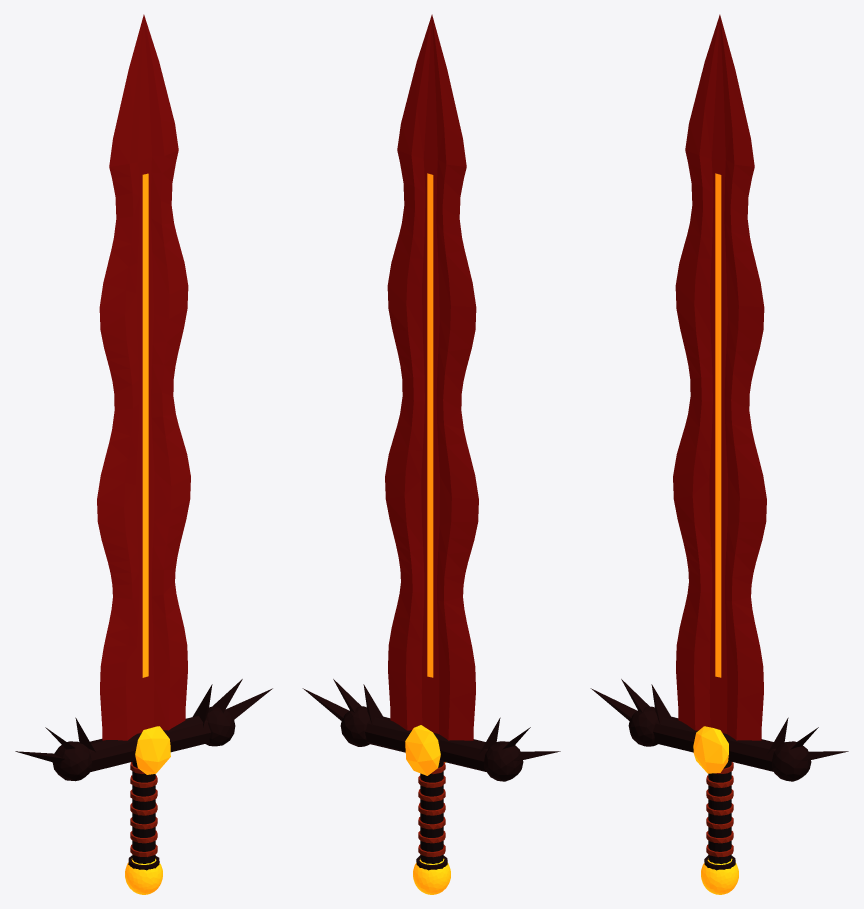
File: sword_4.glb
3 renders of one model, left to right at view 1: azimuth 30°, elevation 25°; view 2: azimuth 150°, elevation 25°; view 3: azimuth 330°, elevation 25°, orthographic.
Parts seen in each view (by area): view 1: part_01, part_03, part_04, part_15, part_13, part_05, part_23, part_06; view 2: part_01, part_02, part_04, part_15, part_14, part_05, part_23, part_06; view 3: part_01, part_03, part_04, part_15, part_13, part_06, part_23, part_05.
Part boxes in pixels (x1,y1,x2,y2): part_01: [97, 14, 190, 740]; part_03: [142, 173, 148, 677]; part_04: [88, 716, 210, 772]; part_15: [132, 761, 155, 863]; part_13: [135, 726, 170, 774]; part_05: [52, 741, 92, 781]; part_23: [125, 858, 162, 894]; part_06: [205, 706, 235, 746]; part_01: [385, 14, 478, 740]; part_02: [427, 173, 433, 677]; part_04: [365, 716, 488, 771]; part_15: [420, 761, 443, 863]; part_14: [405, 725, 440, 775]; part_05: [484, 741, 523, 781]; part_23: [413, 858, 450, 894]; part_06: [340, 706, 369, 746]; part_01: [673, 14, 766, 740]; part_03: [715, 173, 721, 677]; part_04: [653, 716, 776, 771]; part_15: [708, 761, 731, 864]; part_13: [693, 726, 728, 773]; part_06: [772, 741, 811, 781]; part_23: [701, 858, 738, 894]; part_05: [628, 706, 657, 746].
Bounding box in the file's own units: 0.439 × 1.42 × 0.0848.
